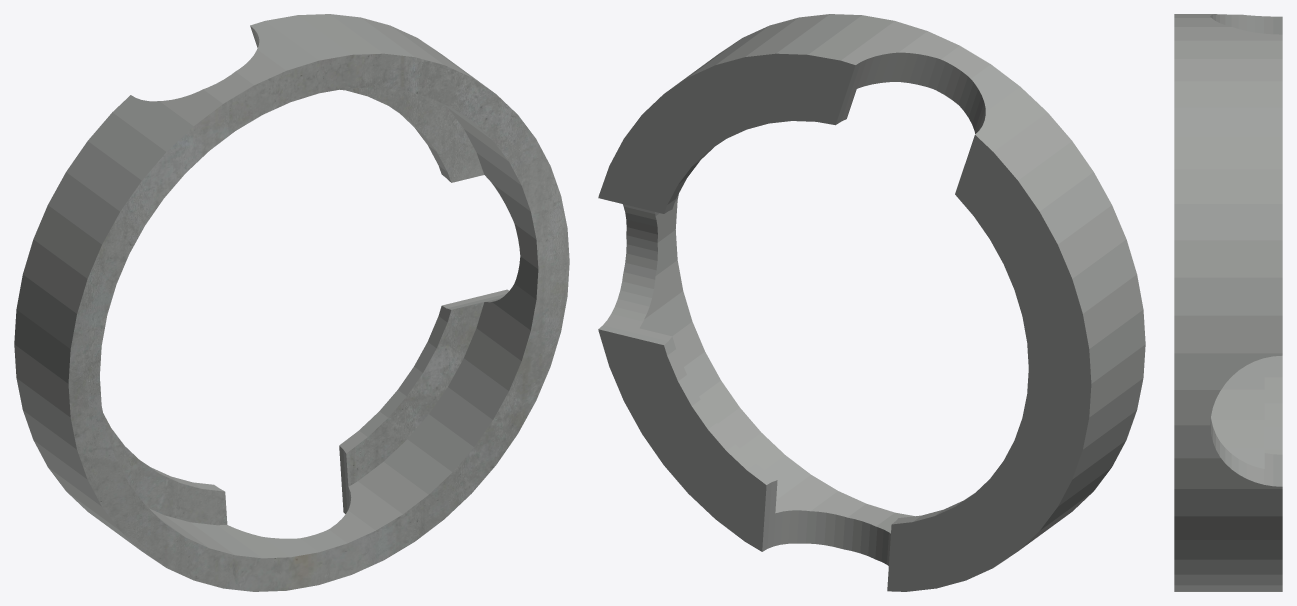
File: pool_002.obj
The picture shows the model from 3 angles, left to right: view 1: azimuth 30°, elevation 25°; view 2: azimuth 150°, elevation 25°; view 3: azimuth 270°, elevation 25°; orthographic projection.
Bounding box in the file's own units: 16 × 16 × 3.
